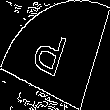P_S: (34, 25, 76, 85)
